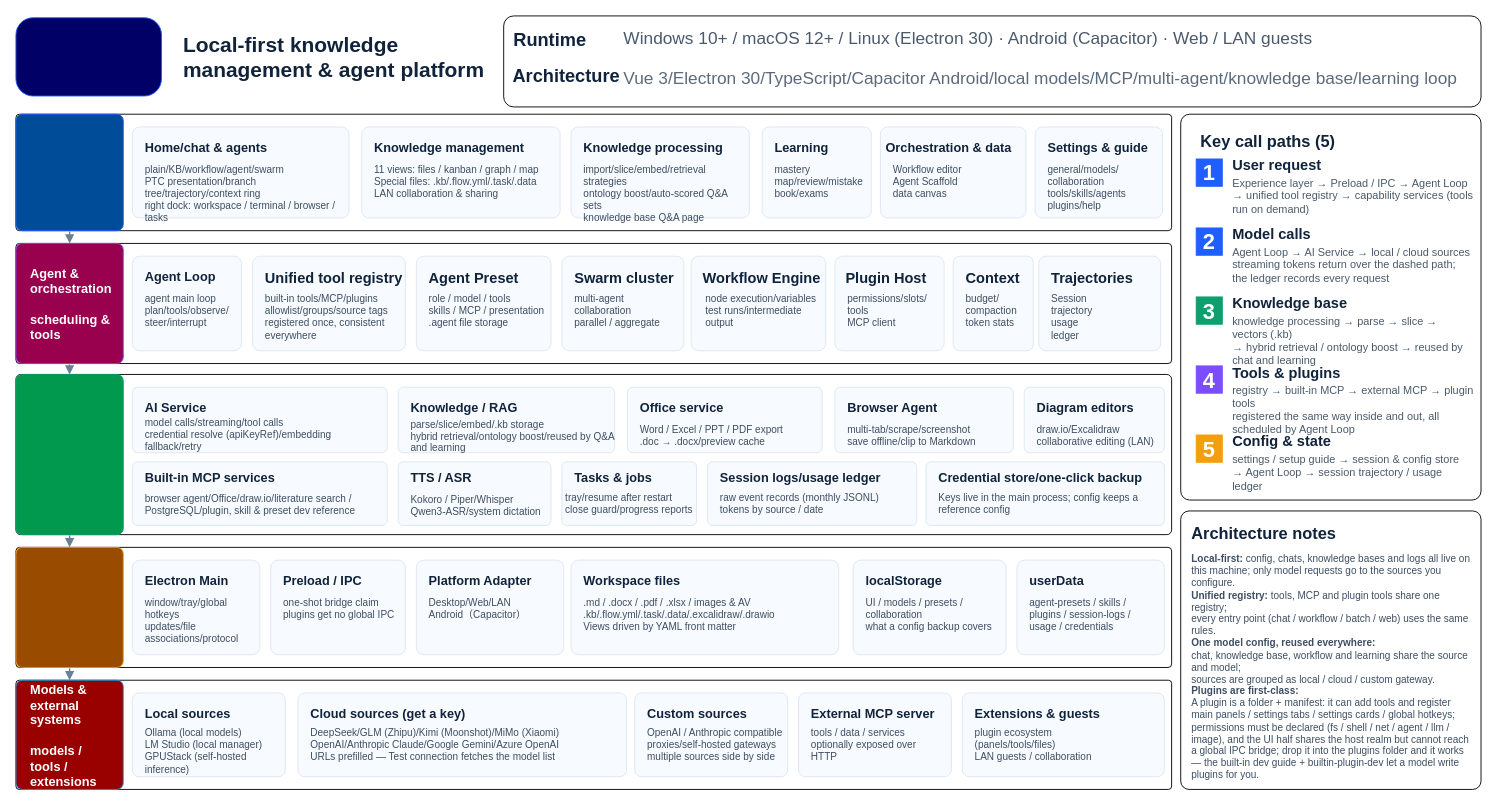
This 1497x805 diagram has some shape labels left out. The box of each missing label's shape, as (x1, y1, x2, y2) in pixels:
AI-KM: (15, 17, 162, 96)
Core services main process: (15, 374, 123, 535)
Experience Renderer front-end UI: (15, 113, 123, 231)
Platform & local data on this machine: (15, 546, 123, 667)
